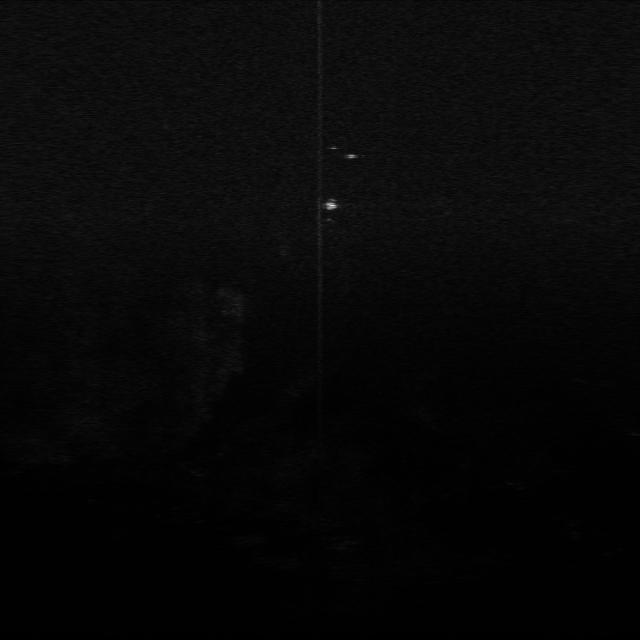rov: (319, 196, 343, 215)
